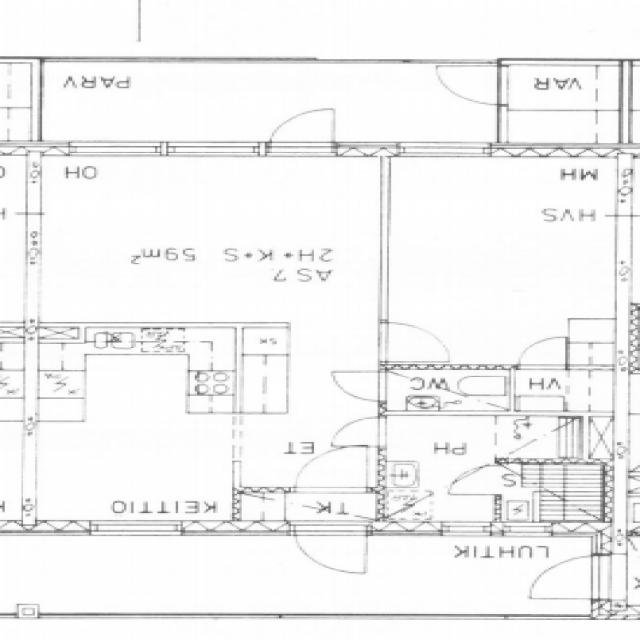door: (289, 521, 369, 584), (267, 102, 336, 156), (293, 443, 366, 493), (381, 322, 454, 361), (436, 66, 508, 105), (518, 336, 565, 369), (336, 372, 391, 400), (336, 418, 391, 446), (447, 466, 500, 494)
